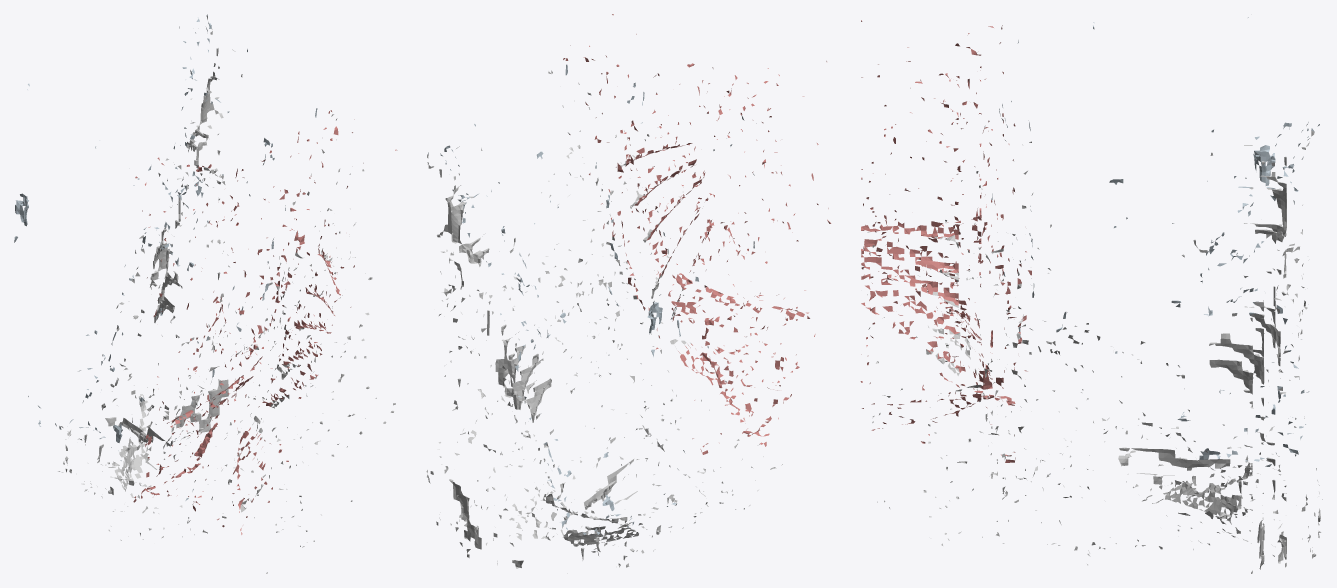
File: B0-뜬면-1__lt_dynnow_ALS_s0__removed.glb
The picture shows the model from 3 angles, left to right: view 1: azimuth 30°, elevation 25°; view 2: azimuth 150°, elevation 25°; view 3: azimuth 270°, elevation 25°; orthographic projection. The views are drawn at different scales.
Bounding box in the file's own units: 19.96 × 35.4 × 32.73.
